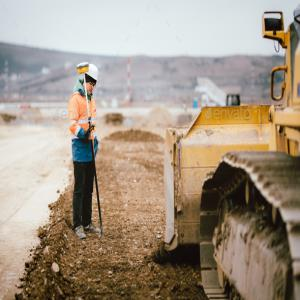white: (83, 64, 101, 93)
